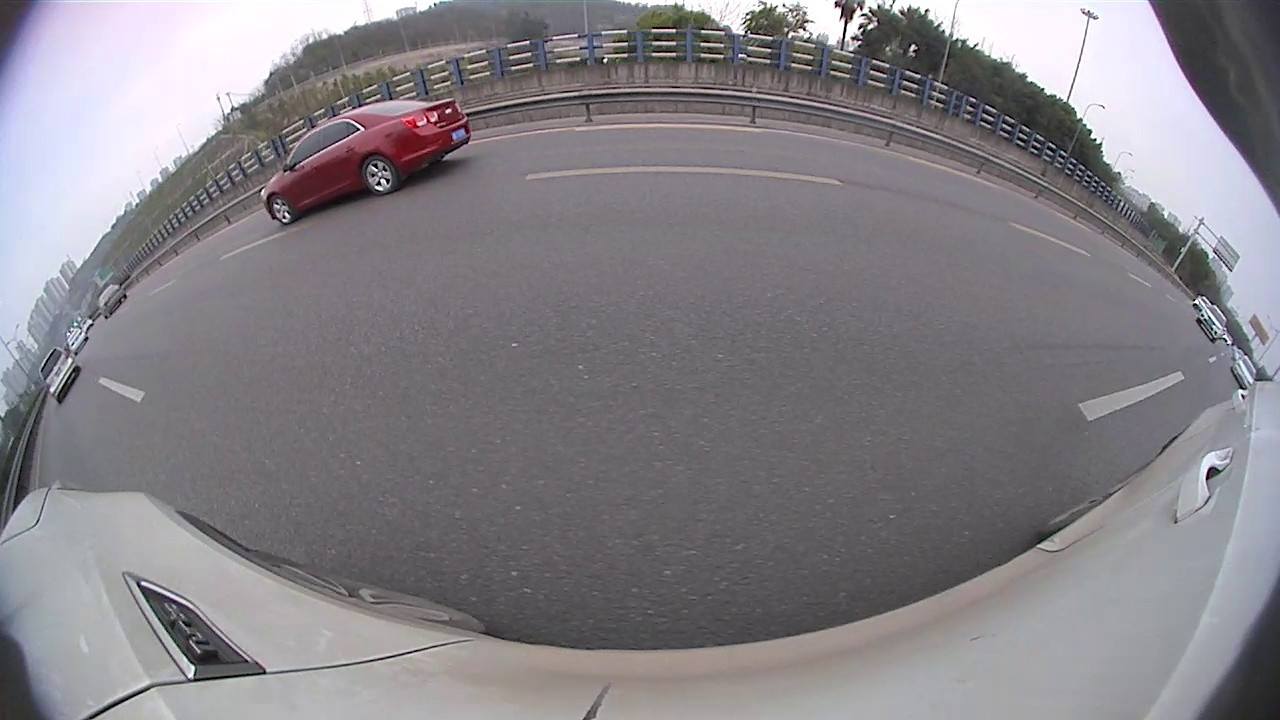car: (256, 93, 480, 231), (35, 343, 85, 406), (96, 280, 130, 320), (1196, 302, 1228, 343), (1227, 351, 1261, 389)
front: (269, 195, 294, 226)
rear: (362, 156, 396, 196)
